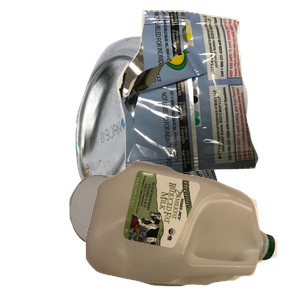glass: (67, 172, 229, 300)
metal: (73, 34, 285, 214)
plastic: (83, 159, 300, 300)
trash: (114, 10, 300, 180)
